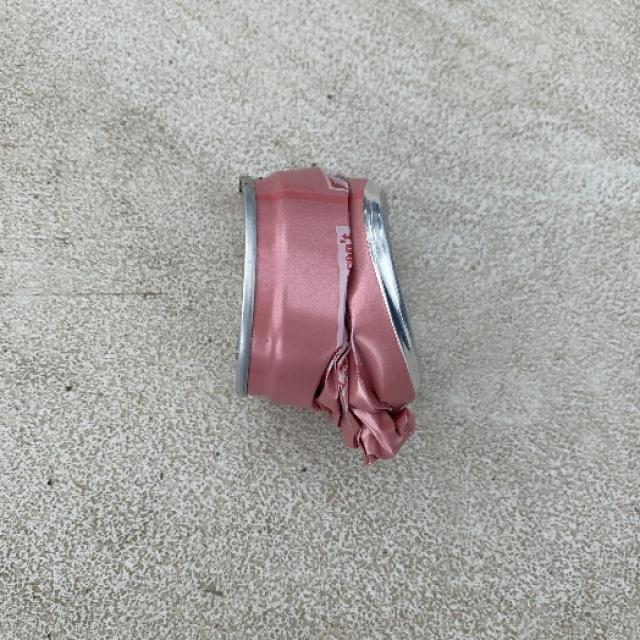metal: (235, 164, 420, 465)
